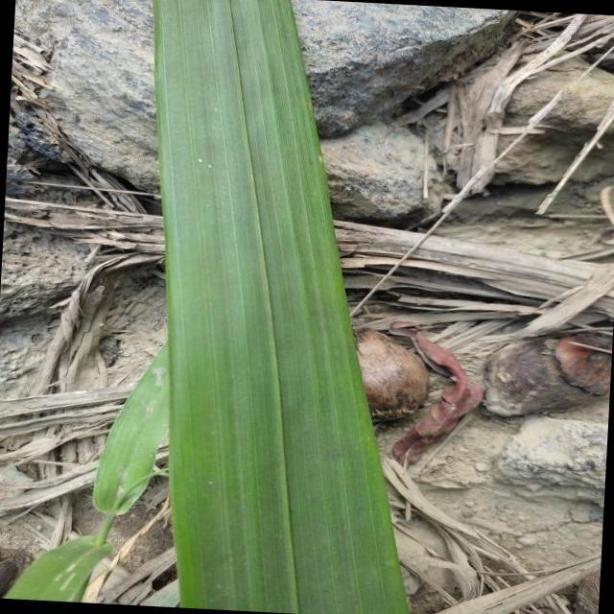Healthy: (151, 1, 417, 614)
